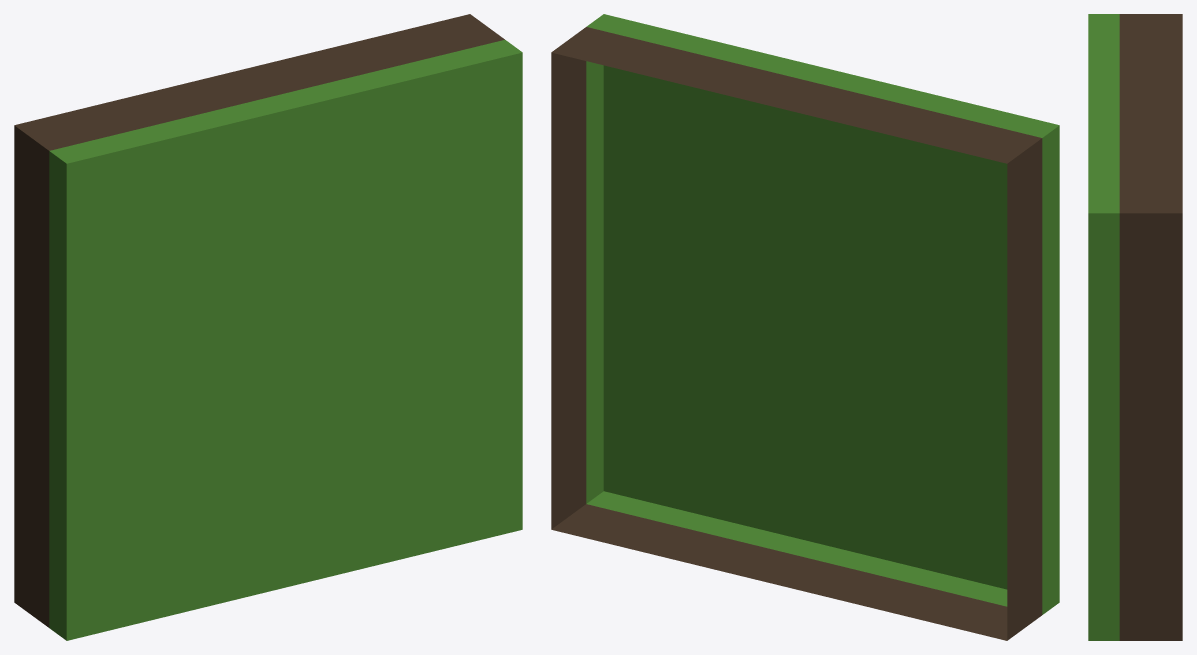
The model's file is race_grass.glb.
3 renders of one model, left to right at view 1: azimuth 30°, elevation 25°; view 2: azimuth 150°, elevation 25°; view 3: azimuth 270°, elevation 25°, orthographic. The views are drawn at different scales.
Parts seen in each view (by area): view 1: tile-plain_grass; view 2: tile-plain_grass; view 3: tile-plain_grass.
Part boxes in pixels (x1,y1,x2,y2): tile-plain_grass: (14,14,522,640); tile-plain_grass: (551,14,1059,640); tile-plain_grass: (1088,14,1182,640).
Size of the model in its own units: 30 by 30 by 6.
Materials: 1 (1 with a texture image).
